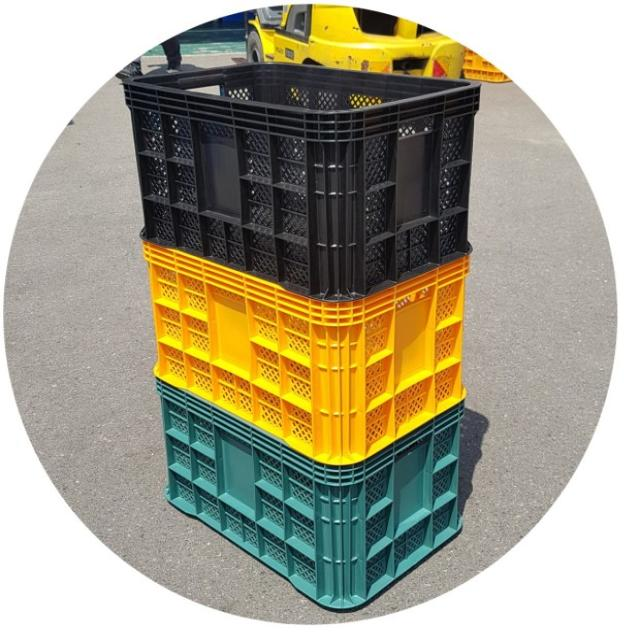basket: (101, 56, 482, 616)
